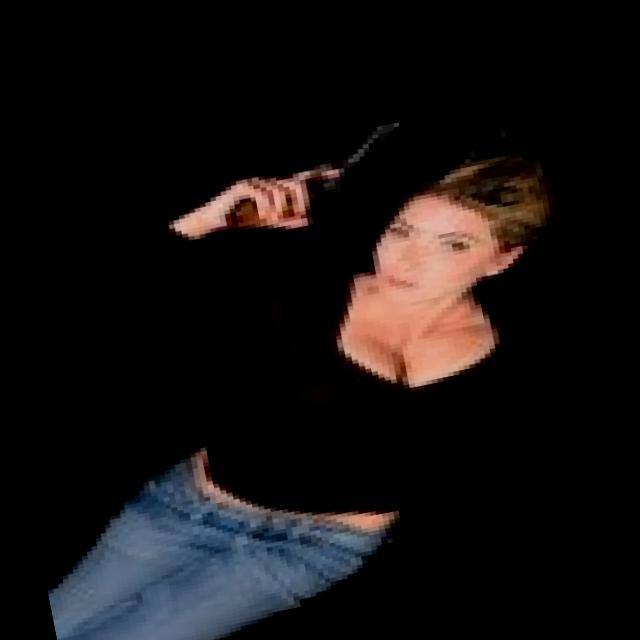handgun: (198, 100, 436, 243)
